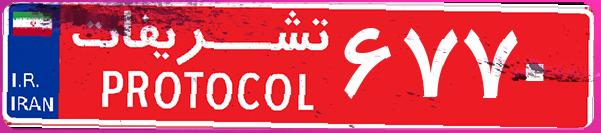0: (520, 20, 580, 115)
6: (340, 20, 400, 115)
7: (400, 20, 460, 115), (460, 20, 520, 115)
تشریفات: (60, 8, 340, 125)
